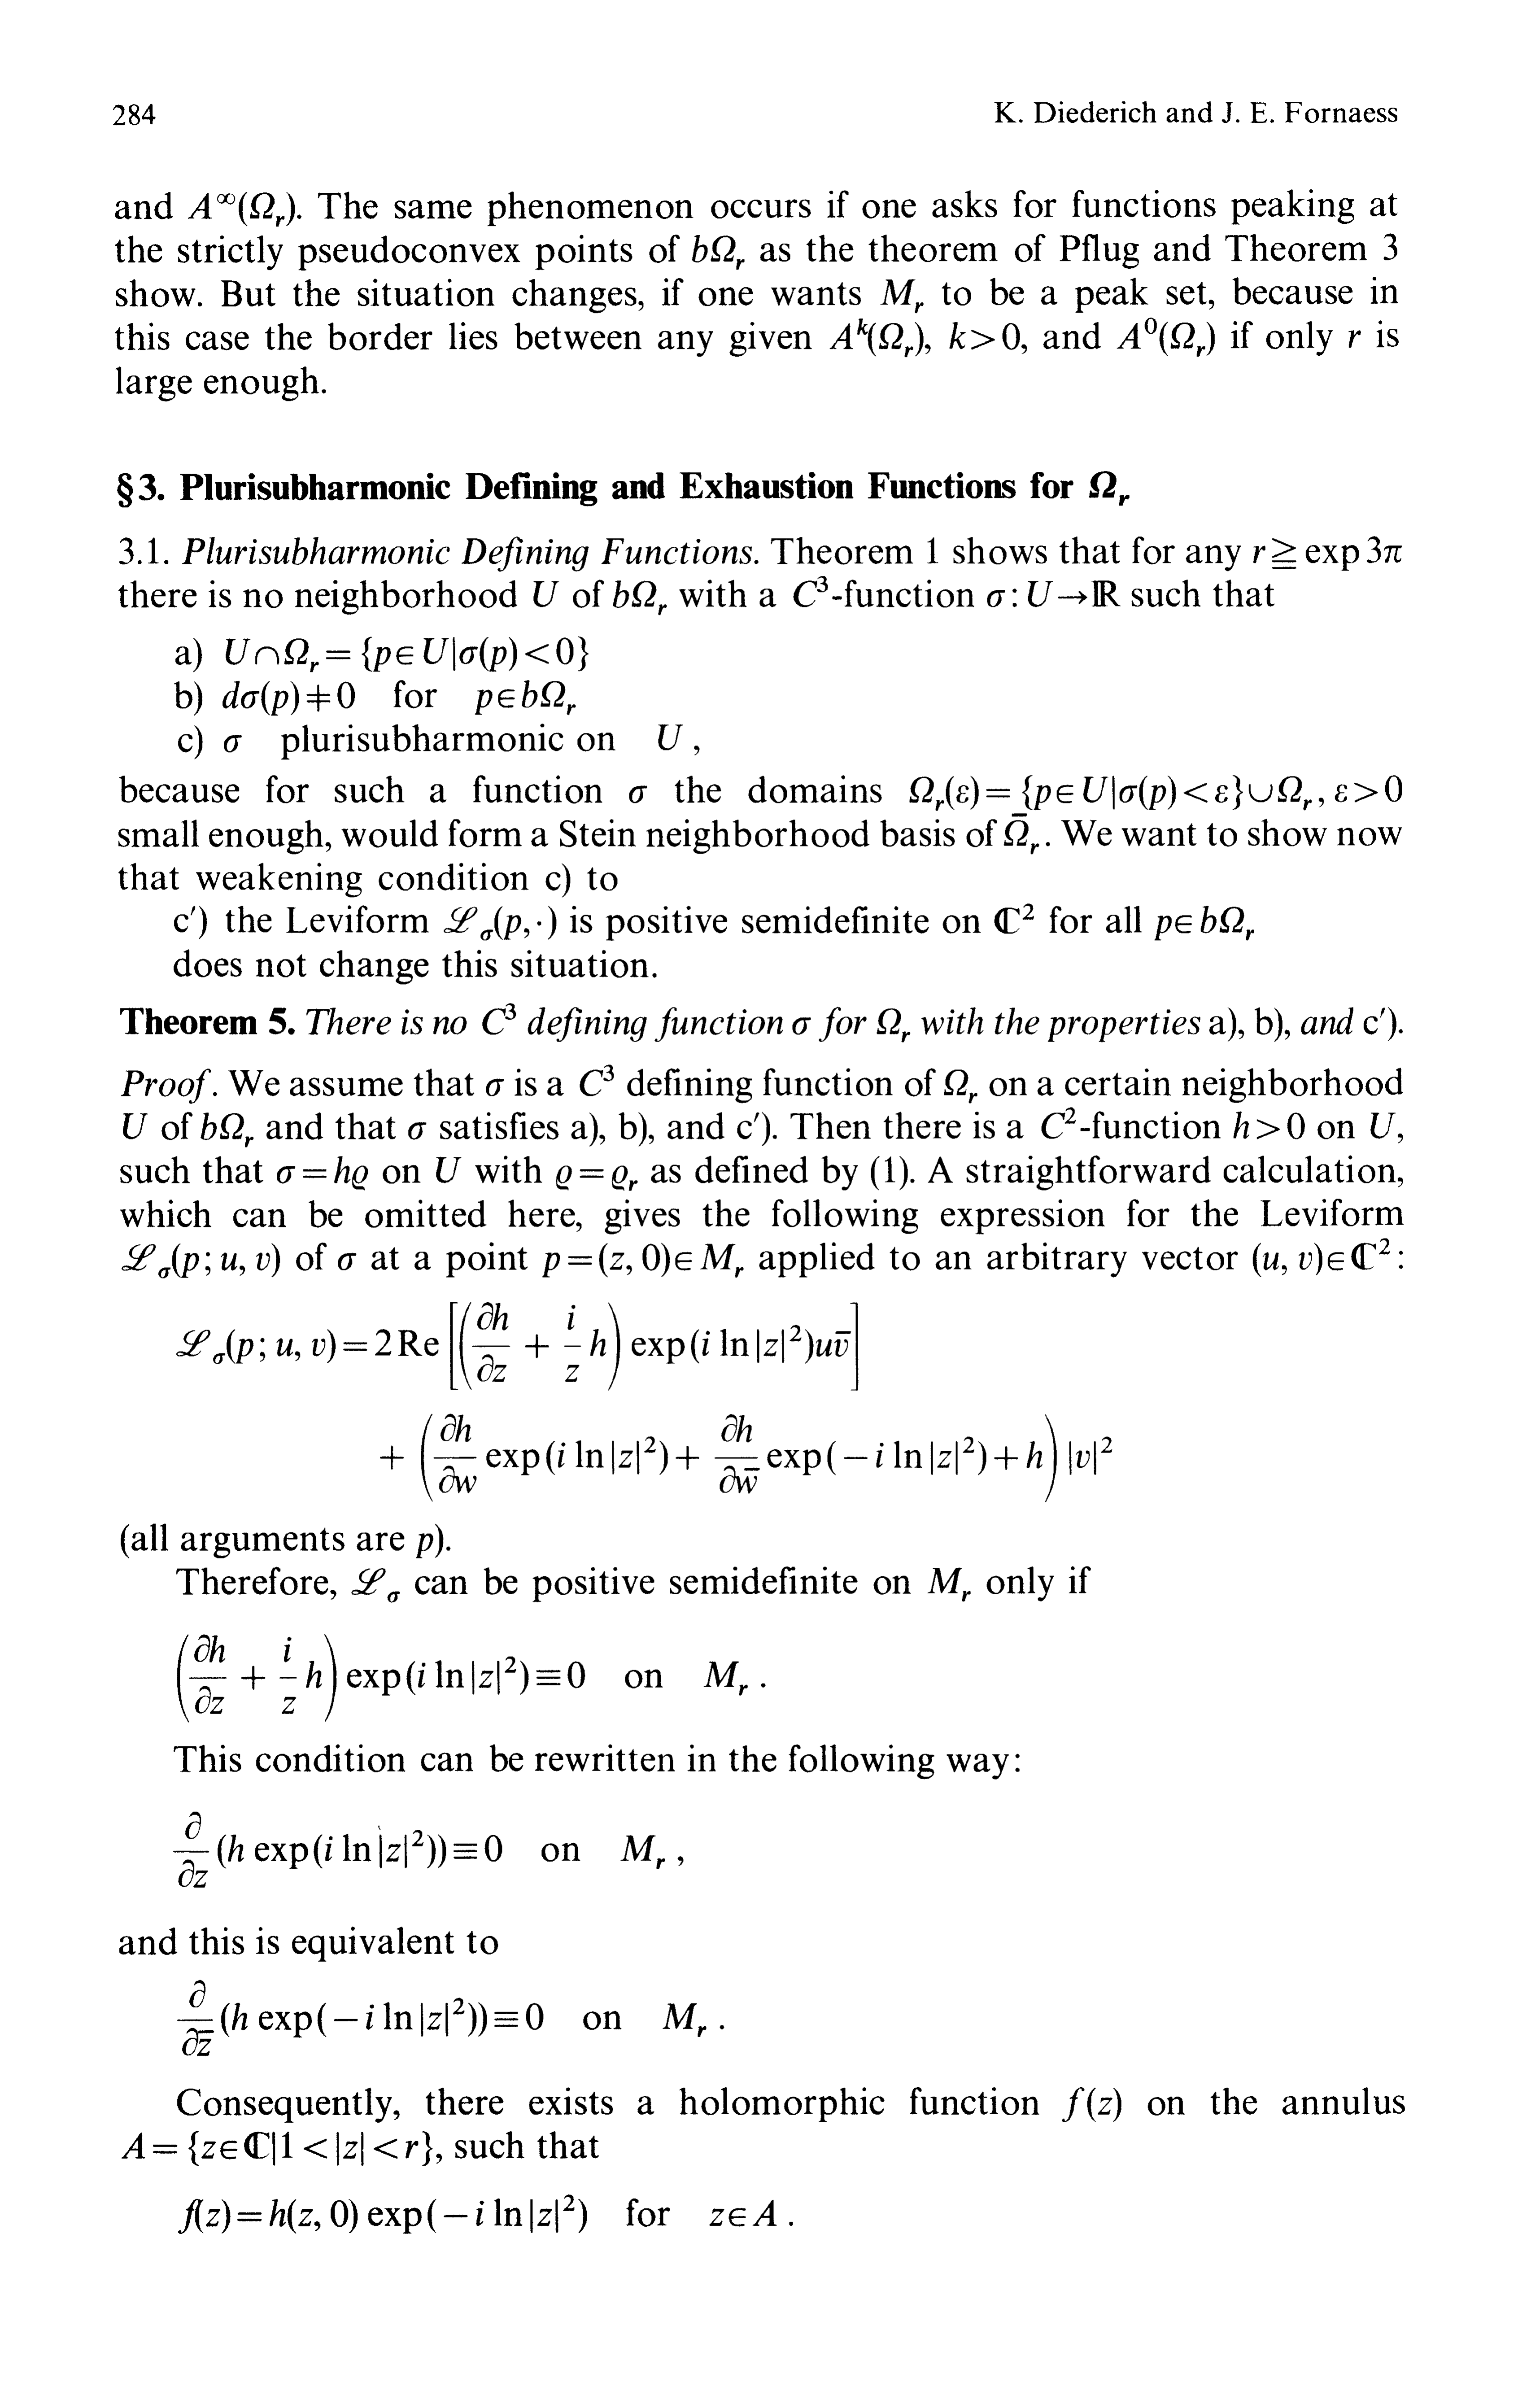maths: (379, 1415, 1112, 1502), (177, 1303, 859, 1390), (177, 1635, 584, 1722), (177, 1980, 542, 2057), (173, 1812, 502, 1887), (178, 2195, 586, 2233), (909, 775, 1312, 810), (226, 637, 588, 672), (121, 2132, 432, 2165), (542, 1243, 743, 1277), (122, 1243, 280, 1278), (1252, 1238, 1389, 1277), (1254, 537, 1401, 570), (222, 680, 355, 715), (1118, 318, 1215, 357), (444, 906, 556, 939), (831, 318, 923, 357), (187, 192, 294, 226), (988, 581, 1121, 607), (476, 680, 575, 715), (1154, 906, 1254, 939), (276, 1156, 367, 1189), (556, 1165, 637, 1191), (1062, 2088, 1121, 2121), (950, 322, 1020, 350), (1233, 1112, 1305, 1138), (693, 234, 745, 269), (201, 1112, 254, 1147), (612, 581, 666, 614), (1334, 775, 1403, 801), (710, 2200, 776, 2226), (352, 1569, 399, 1602), (621, 1834, 665, 1869), (927, 1569, 971, 1602), (703, 1661, 747, 1695), (1090, 470, 1130, 505), (1004, 813, 1039, 853), (881, 280, 923, 313), (663, 2004, 705, 2037), (876, 1007, 909, 1042), (995, 904, 1034, 934), (944, 1070, 978, 1103), (794, 575, 827, 607), (1042, 1107, 1076, 1138), (579, 1065, 614, 1095), (483, 1004, 516, 1033), (416, 1525, 442, 1558), (533, 581, 558, 607), (658, 724, 682, 750), (122, 1112, 147, 1138), (1371, 1112, 1396, 1138), (435, 1158, 460, 1182), (224, 734, 241, 752), (630, 785, 647, 803), (338, 1252, 355, 1270), (792, 1018, 810, 1033), (486, 1079, 504, 1095), (407, 1123, 425, 1138), (1348, 331, 1361, 348)
